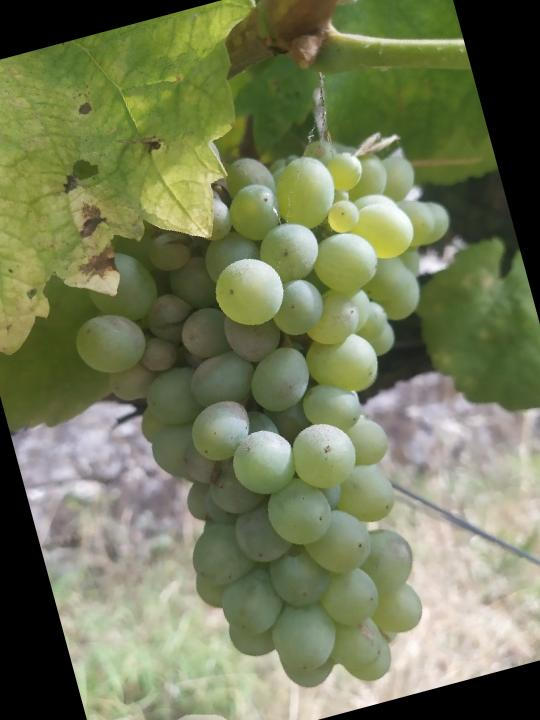grape: (39, 109, 540, 720)
